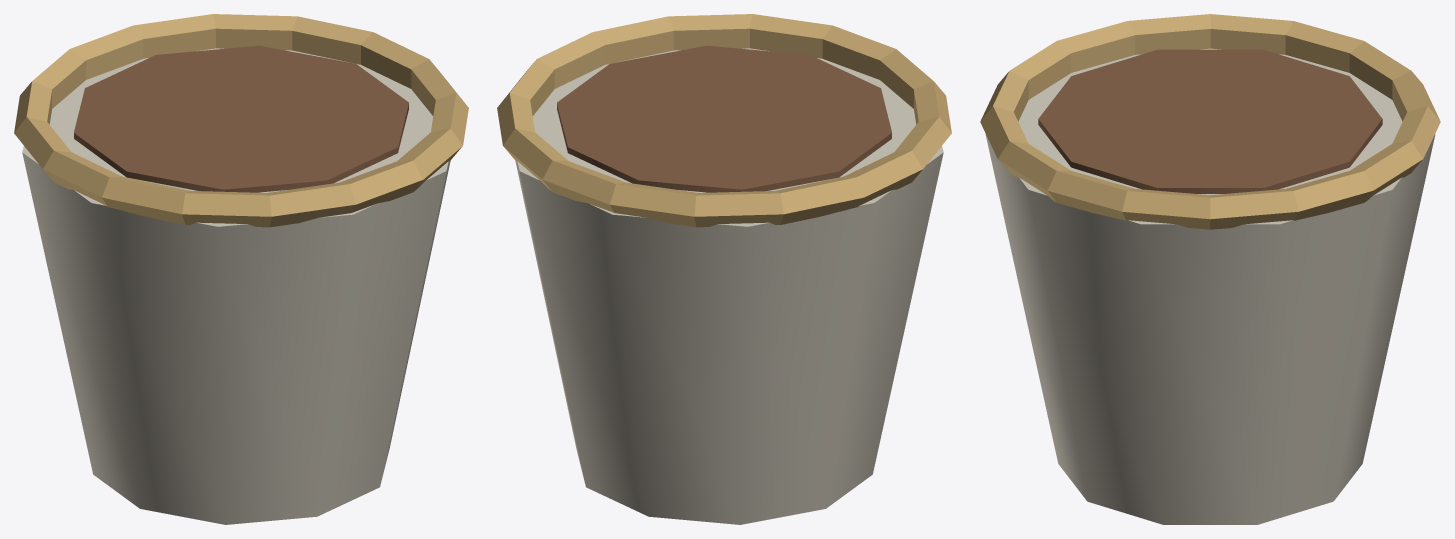
Rendered from plantpot.glb.
3 views of the same model, side by side, from view 1: azimuth 30°, elevation 25°; view 2: azimuth 150°, elevation 25°; view 3: azimuth 270°, elevation 25° (orthographic).
Visible parts, largest first — view 1: plantpot; view 2: plantpot; view 3: plantpot.
Part boxes in pixels (bbox=[...]): plantpot: bbox=[14, 14, 468, 524]; plantpot: bbox=[497, 14, 951, 524]; plantpot: bbox=[980, 14, 1440, 524].
Size of the model in its own units: 0.3132 by 0.2685 by 0.3132.
